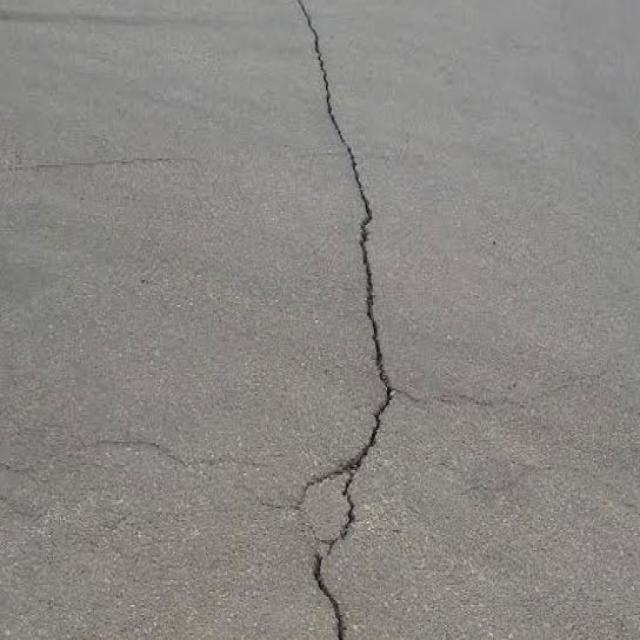Diagonal: (286, 0, 402, 356)
Longitudinal: (310, 547, 374, 640)
Network: (37, 399, 284, 563)
Radial: (296, 432, 407, 538), (369, 361, 416, 425)
Transverse: (433, 373, 632, 424)
